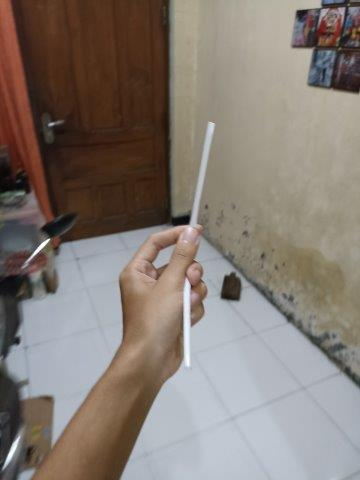sedotan: (183, 126, 214, 364)
